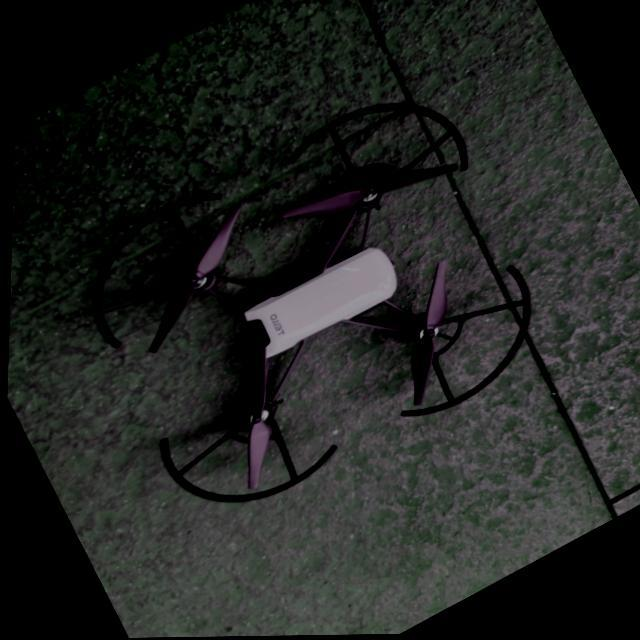drone: (81, 99, 535, 511)
